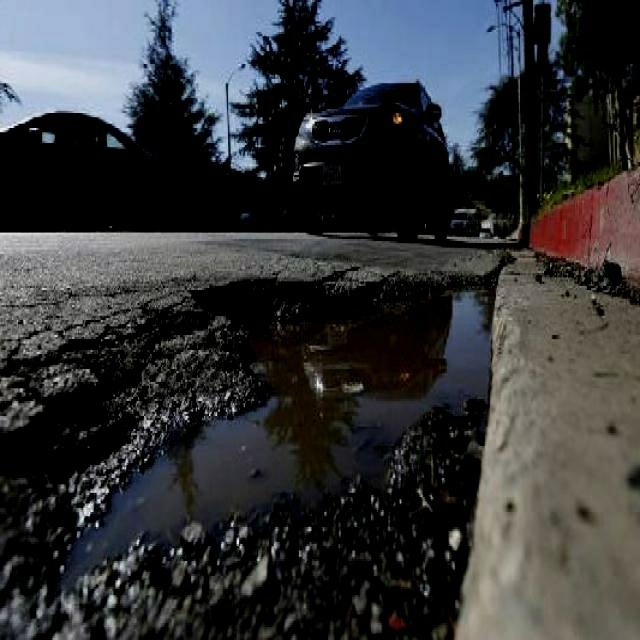Pothole: (4, 265, 506, 638)
